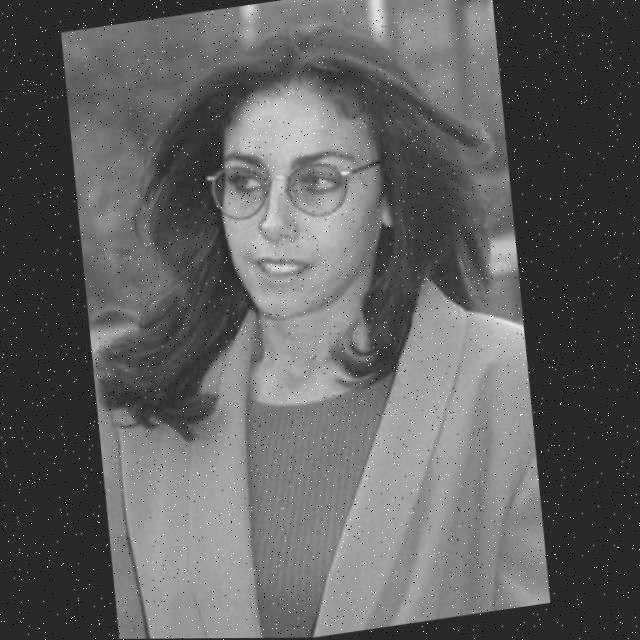face: (196, 71, 394, 331)
